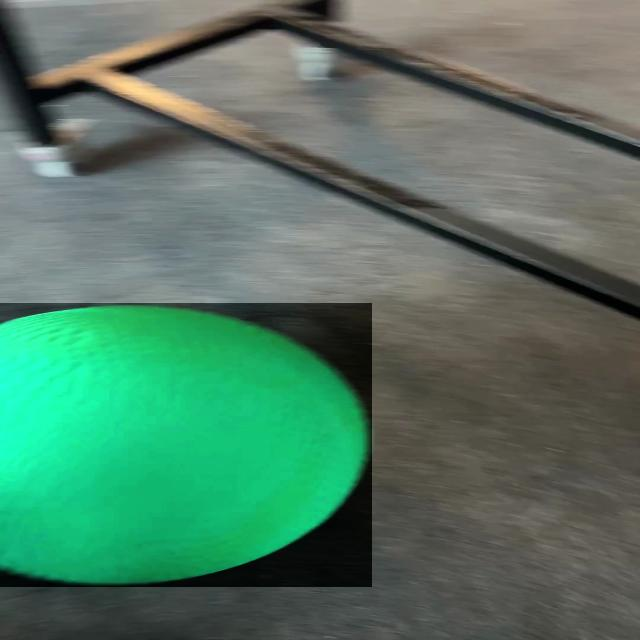Algae: (0, 303, 372, 587)
